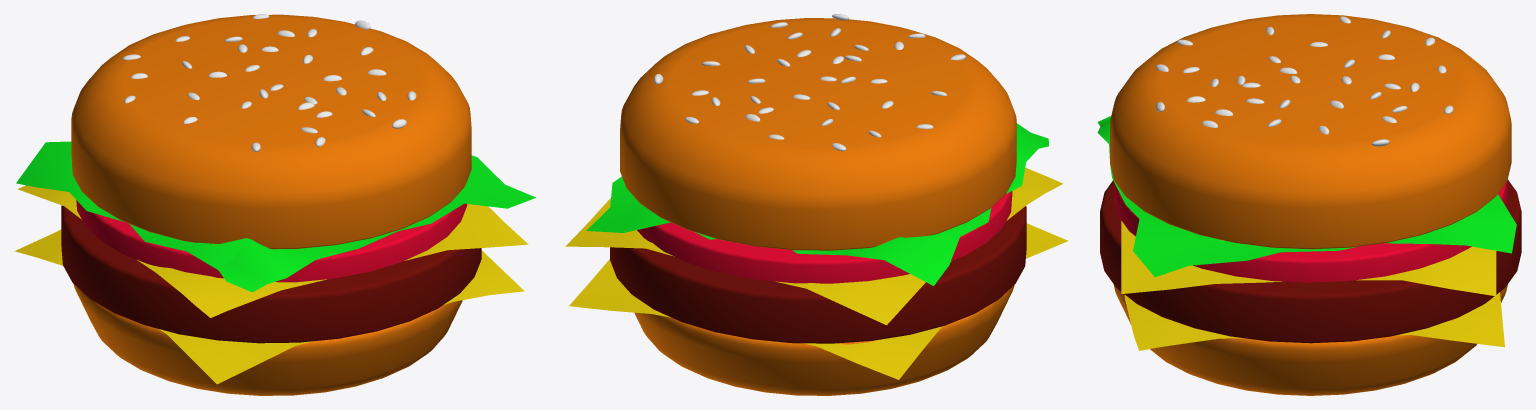
The model's file is Burga.fbx.
The picture shows the model from 3 angles, left to right: view 1: azimuth 30°, elevation 25°; view 2: azimuth 150°, elevation 25°; view 3: azimuth 270°, elevation 25°; orthographic projection.
Visible parts, largest first — view 1: PanArriba, Carne, PanAbajo, Lechuga, Tomate, Queso, Queso2; view 2: PanArriba, Carne, PanAbajo, Tomate, Lechuga, Queso, Queso2; view 3: PanArriba, Carne, PanAbajo, Lechuga, Tomate, Queso, Queso2.
Boxes of the visible parts, <box> form: PanArriba: <box>71,14,471,249</box>; Carne: <box>61,205,481,343</box>; PanAbajo: <box>73,284,462,395</box>; Lechuga: <box>16,141,535,292</box>; Tomate: <box>76,200,467,282</box>; Queso: <box>18,185,528,317</box>; Queso2: <box>14,229,524,384</box>; PanArriba: <box>620,18,1016,250</box>; Carne: <box>610,206,1026,343</box>; PanAbajo: <box>634,285,1014,395</box>; Tomate: <box>637,191,1012,283</box>; Lechuga: <box>586,123,1048,285</box>; Queso: <box>565,167,1062,325</box>; Queso2: <box>569,223,1067,379</box>; PanArriba: <box>1110,14,1511,249</box>; Carne: <box>1100,179,1521,343</box>; PanAbajo: <box>1113,284,1507,395</box>; Lechuga: <box>1097,116,1516,277</box>; Tomate: <box>1114,181,1507,282</box>; Queso: <box>1121,220,1496,296</box>; Queso2: <box>1124,292,1504,350</box>.
Size of the model in its own units: 215 by 138 by 211.
